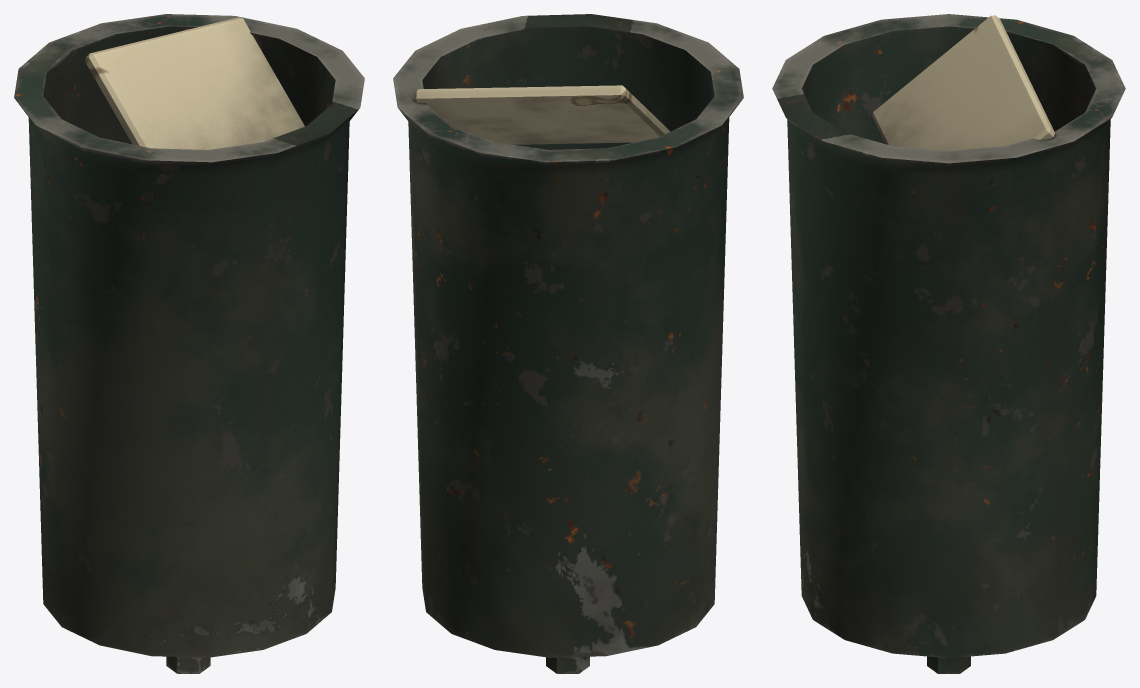
Rendered from LitterBin.fbx.
3 renders of one model, left to right at view 1: azimuth 30°, elevation 25°; view 2: azimuth 150°, elevation 25°; view 3: azimuth 270°, elevation 25°, orthographic.
Visible parts, largest first — view 1: LitterBin; view 2: LitterBin; view 3: LitterBin.
Boxes of the visible parts, x1=… form: LitterBin: x1=14, y1=14, x2=364, y2=673; LitterBin: x1=393, y1=14, x2=743, y2=673; LitterBin: x1=772, y1=14, x2=1125, y2=673.
Bounding box in the file's own units: 1.44 × 2.53 × 1.44.
1 material, 1 textured.
